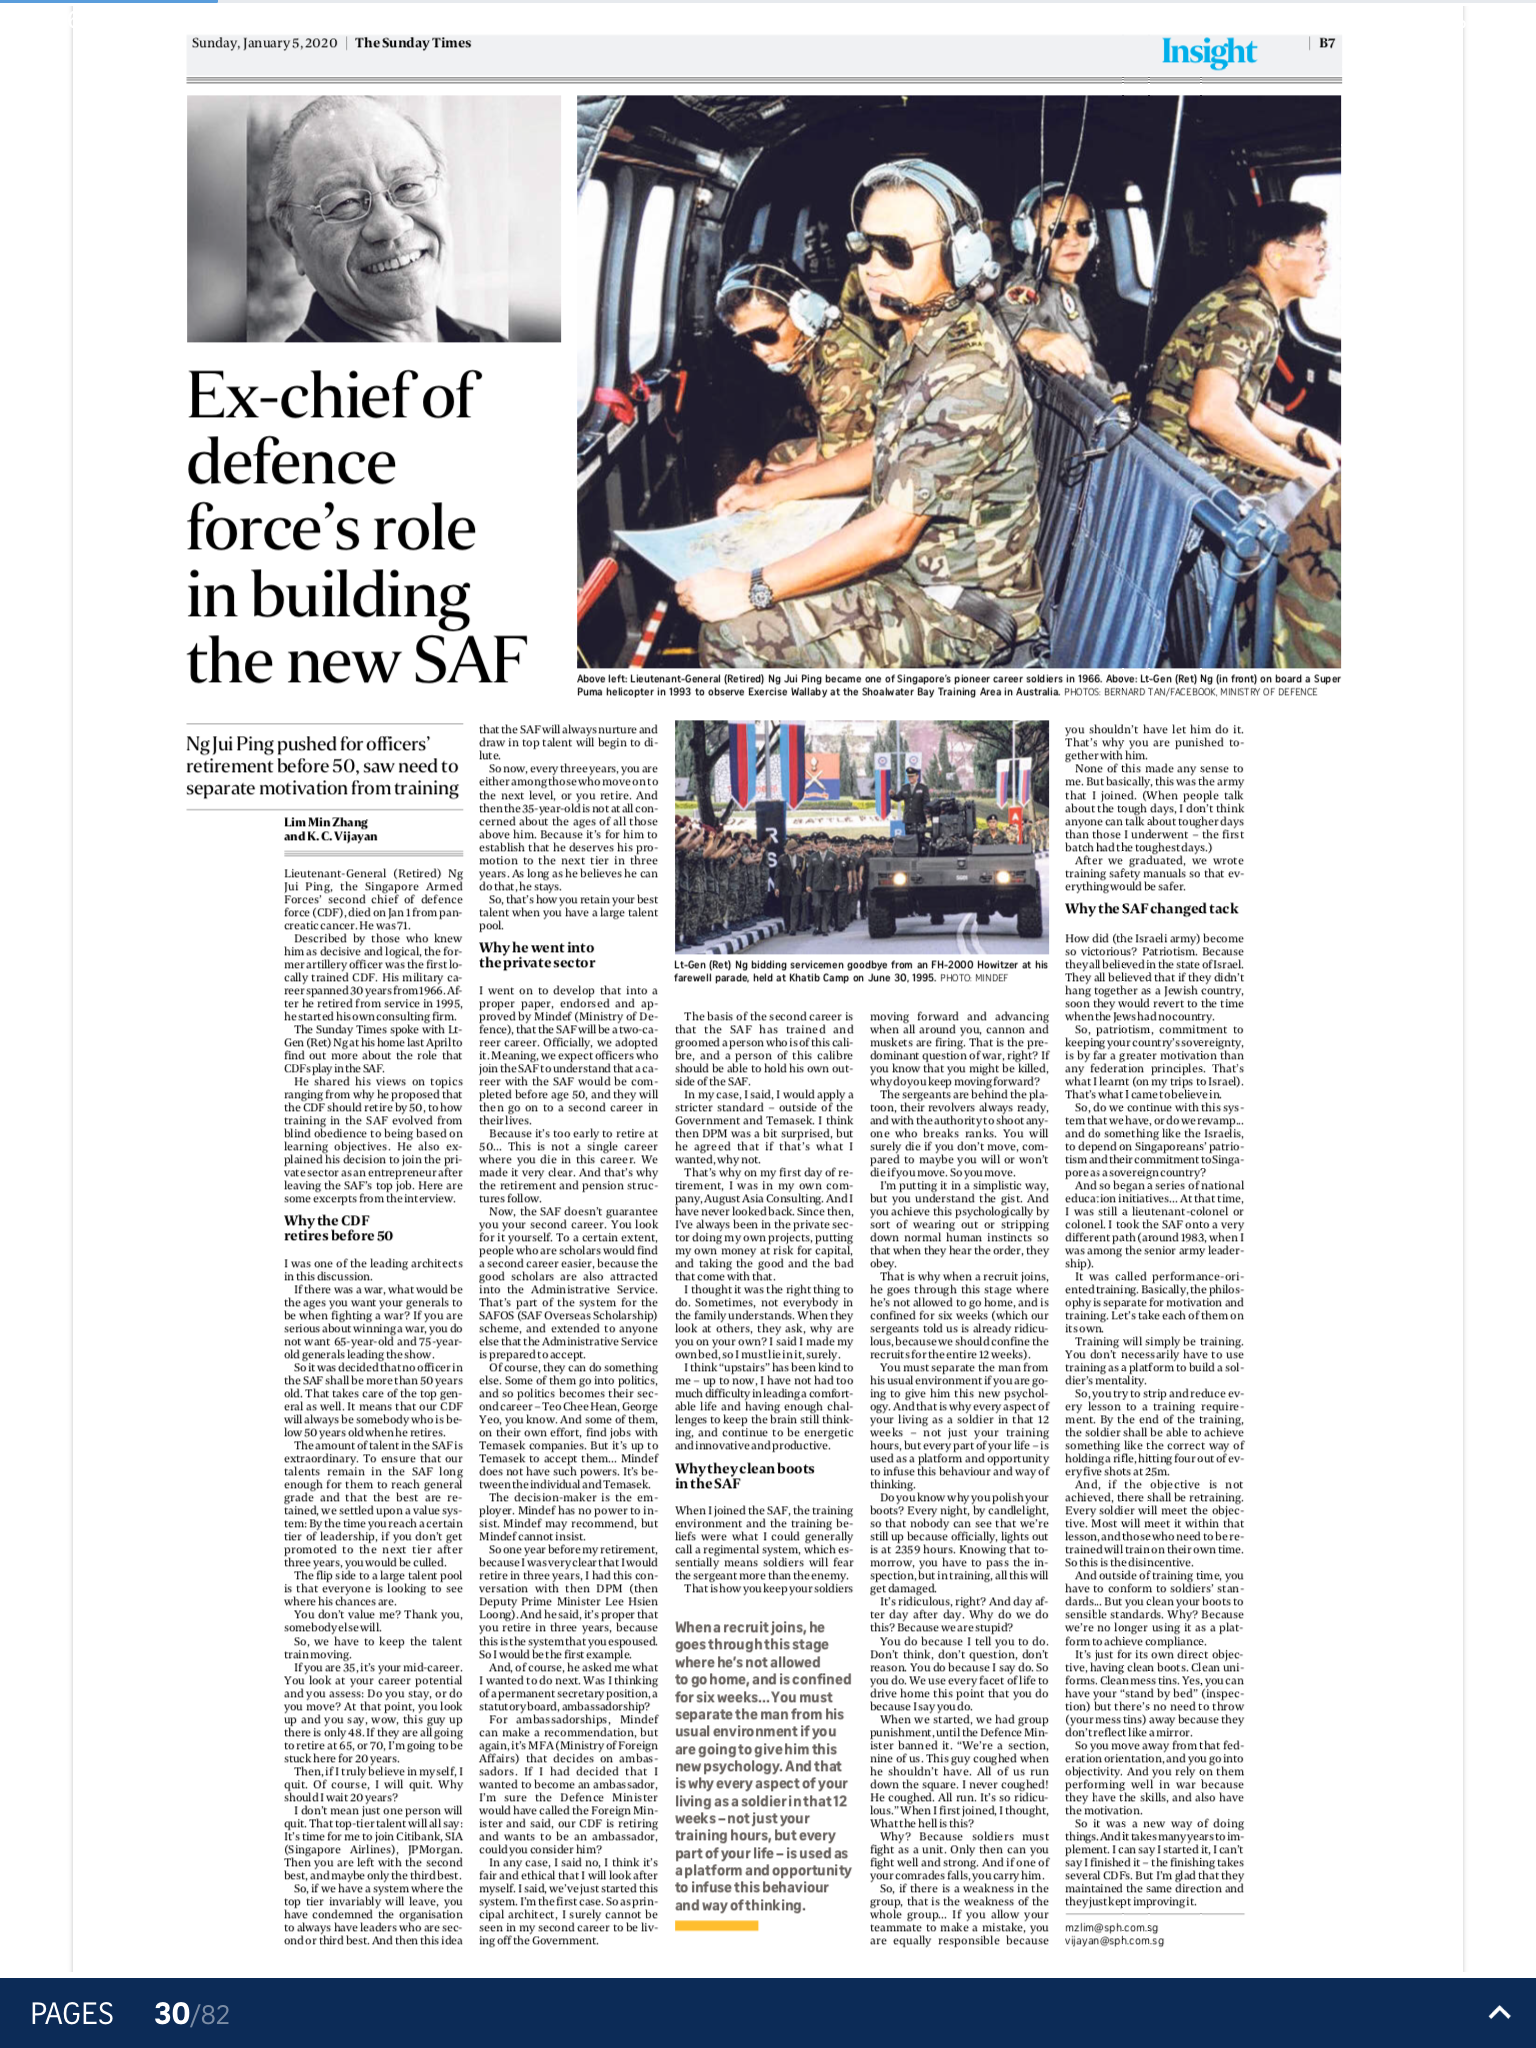Byline: (281, 813, 381, 845)
Headline: (179, 355, 541, 693)
Illustration: (574, 664, 1349, 706), (668, 948, 1055, 995)
Image: (578, 92, 1342, 663), (186, 89, 561, 339), (674, 719, 1049, 947)
Text: (1054, 714, 1258, 1958), (471, 718, 670, 1956), (278, 863, 471, 1959), (862, 1005, 1063, 1963), (666, 1001, 858, 1938)
